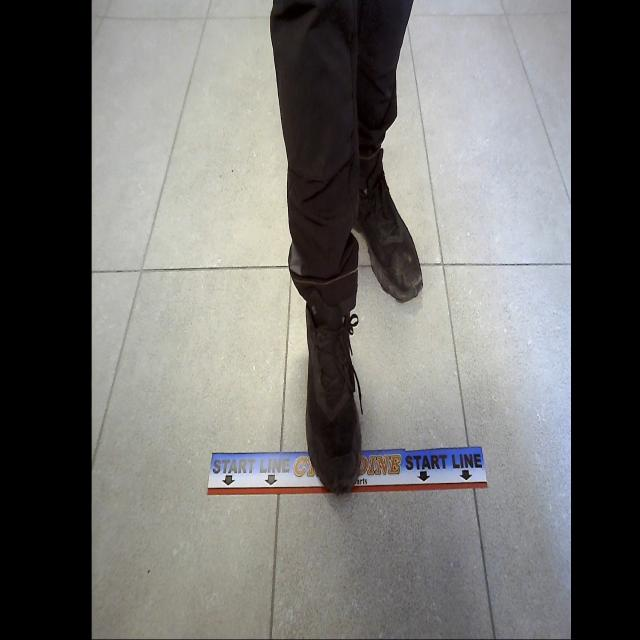foot: (304, 292, 369, 500), (354, 147, 423, 303)
